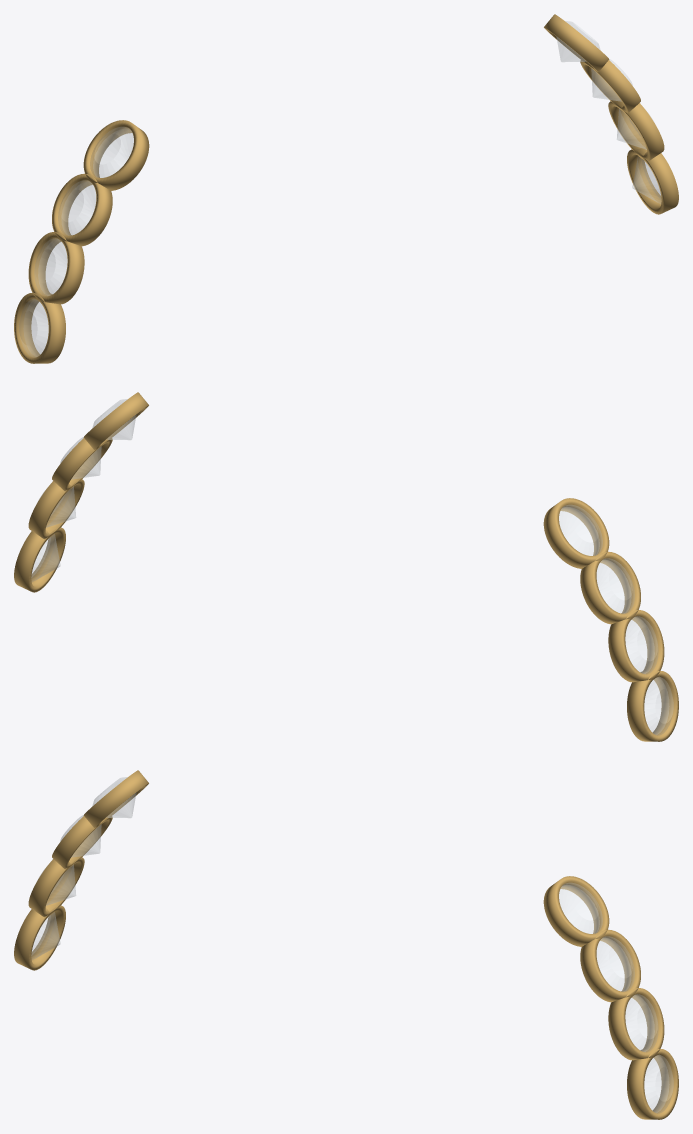
Rendered from accents-bezel-accents-head.glb.
The picture shows the model from 3 angles, top to bottom: view 1: azimuth 30°, elevation 25°; view 2: azimuth 150°, elevation 25°; view 3: azimuth 330°, elevation 25°; orthographic projection.
Parts seen in each view (by area): view 1: Accent bezel, Accent bezel.001, Accent bezel.003, Accent bezel.002, Accent bezel.007, Accent bezel.006, Gem, Gem.001, Accent bezel.005, Gem.002, Accent bezel.004, Gem.003 (+4 smaller); view 2: Accent bezel, Accent bezel.001, Accent bezel.003, Accent bezel.002, Accent bezel.007, Accent bezel.006, Gem, Gem.001, Accent bezel.005, Gem.002, Accent bezel.004, Gem.003 (+4 smaller); view 3: Accent bezel.004, Accent bezel.005, Accent bezel.007, Accent bezel.006, Accent bezel.003, Accent bezel.002, Gem.004, Gem.005, Accent bezel.001, Gem.006, Accent bezel, Gem.007 (+4 smaller).
Part boxes in pixels (x1=…): Accent bezel: x1=83, y1=120, x2=149, y2=190; Accent bezel.001: x1=52, y1=173, x2=112, y2=246; Accent bezel.003: x1=14, y1=292, x2=65, y2=363; Accent bezel.002: x1=28, y1=232, x2=84, y2=304; Accent bezel.007: x1=627, y1=147, x2=678, y2=214; Accent bezel.006: x1=608, y1=100, x2=664, y2=161; Gem: x1=90, y1=127, x2=133, y2=177; Gem.001: x1=58, y1=180, x2=95, y2=235; Accent bezel.005: x1=580, y1=60, x2=640, y2=113; Gem.002: x1=34, y1=238, x2=67, y2=295; Accent bezel.004: x1=544, y1=14, x2=609, y2=72; Gem.003: x1=19, y1=299, x2=48, y2=357; Accent bezel: x1=543, y1=498, x2=609, y2=568; Accent bezel.001: x1=580, y1=551, x2=640, y2=624; Accent bezel.003: x1=627, y1=670, x2=678, y2=741; Accent bezel.002: x1=608, y1=610, x2=664, y2=682; Accent bezel.007: x1=14, y1=525, x2=65, y2=592; Accent bezel.006: x1=28, y1=478, x2=84, y2=539; Gem: x1=559, y1=505, x2=602, y2=555; Gem.001: x1=597, y1=558, x2=634, y2=613; Accent bezel.005: x1=52, y1=438, x2=112, y2=491; Gem.002: x1=625, y1=616, x2=658, y2=673; Accent bezel.004: x1=83, y1=392, x2=148, y2=450; Gem.003: x1=644, y1=677, x2=673, y2=735; Accent bezel.004: x1=543, y1=876, x2=609, y2=946; Accent bezel.005: x1=580, y1=929, x2=640, y2=1002; Accent bezel.007: x1=627, y1=1048, x2=678, y2=1119; Accent bezel.006: x1=608, y1=988, x2=664, y2=1060; Accent bezel.003: x1=14, y1=903, x2=65, y2=970; Accent bezel.002: x1=28, y1=856, x2=84, y2=917; Gem.004: x1=559, y1=883, x2=602, y2=933; Gem.005: x1=597, y1=936, x2=634, y2=991; Accent bezel.001: x1=52, y1=816, x2=112, y2=869; Gem.006: x1=625, y1=994, x2=658, y2=1051; Accent bezel: x1=83, y1=770, x2=148, y2=828; Gem.007: x1=644, y1=1055, x2=673, y2=1113.
Size of the model in its own units: 19.73 by 6.34 by 1.89.
